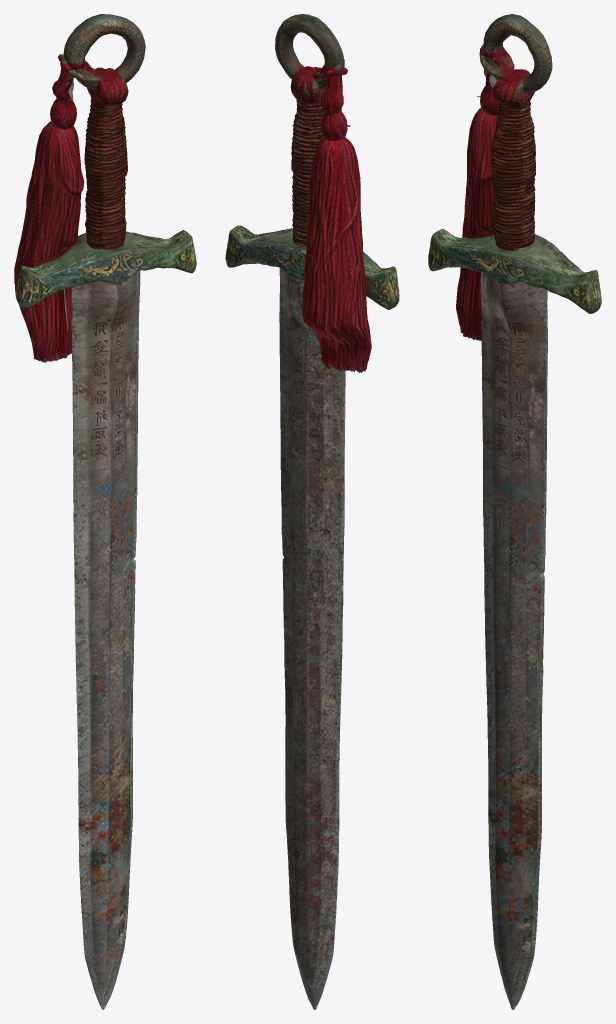
Rendered from giant_sword.glb.
The picture shows the model from 3 angles, left to right: view 1: azimuth 30°, elevation 25°; view 2: azimuth 150°, elevation 25°; view 3: azimuth 330°, elevation 25°; orthographic projection.
Parts seen in each view (by area): view 1: clean; view 2: clean; view 3: clean.
Part boxes in pixels (bbox=[...]): clean: bbox=[14, 14, 196, 1009]; clean: bbox=[225, 14, 399, 1009]; clean: bbox=[428, 14, 601, 1009].
Size of the model in its own units: 76.11 by 420 by 38.88.
Materials: 1 (1 with a texture image).
